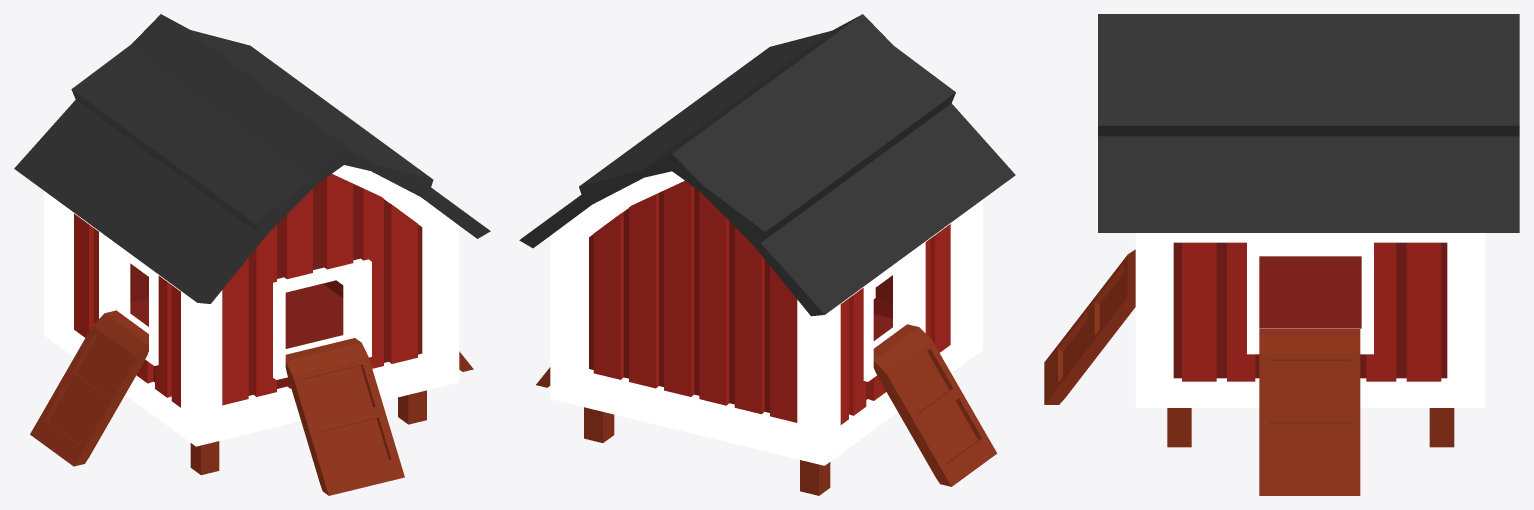
The model's file is prop_ChickenCoop.glb.
3 views of the same model, side by side, from view 1: azimuth 30°, elevation 25°; view 2: azimuth 150°, elevation 25°; view 3: azimuth 270°, elevation 25° (orthographic). The views are drawn at different scales.
Parts seen in each view (by area): view 1: ChickenCoop; view 2: ChickenCoop; view 3: ChickenCoop.
Part boxes in pixels (x1,y1,x2,y2): ChickenCoop: (14, 14, 490, 495); ChickenCoop: (519, 14, 1015, 495); ChickenCoop: (1044, 14, 1519, 495).
Size of the model in its own units: 2.41 by 1.85 by 2.15.
